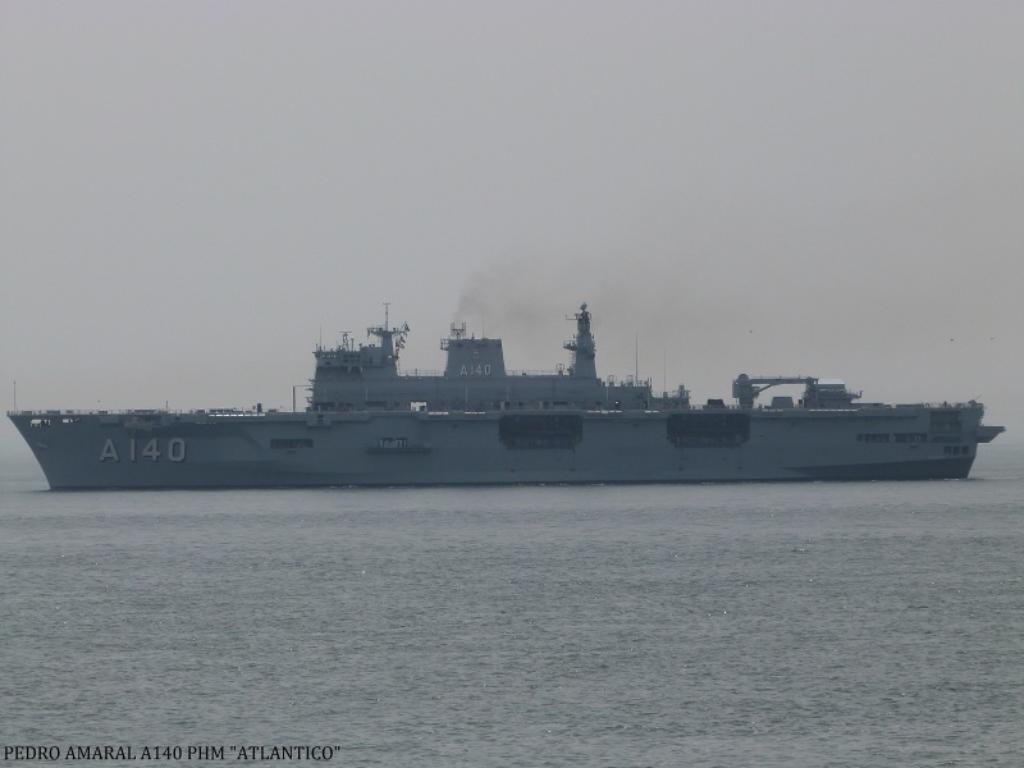Warship: (2, 298, 1010, 494)
